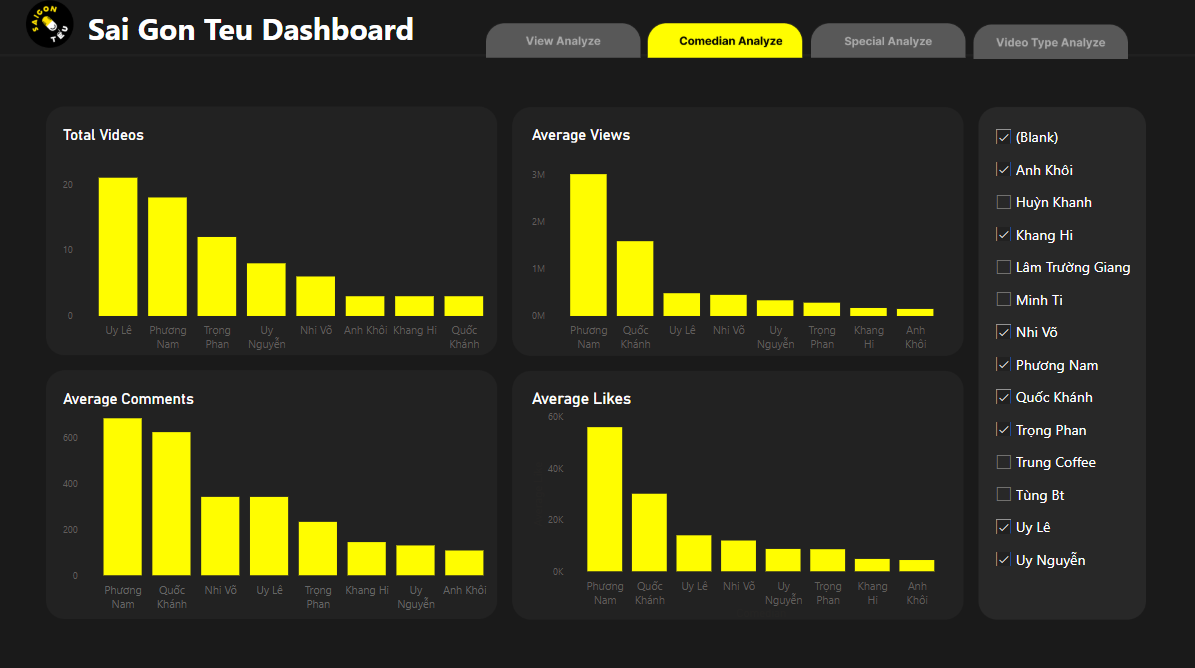

This screenshot's page, from the dashboard's own definition file:
{"tool":"powerbi","page":{"name":"Dashboard Comedian","canvas":[1920,1080],"ordinal":1},"visuals":[{"type":"columnChart","title":"Average Views","fields":{"Category":["Stand-up Comedy Videos.Comedian"],"Y":["Stand-up Comedy Videos.View"]},"box":[852.9,205.7,684.3,368.6],"z":0},{"type":"columnChart","title":"Average Comments","fields":{"Category":["Stand-up Comedy Videos.Comedian"],"Y":["Stand-up Comedy Videos.Comment"]},"box":[101.4,627.1,715.7,361.4],"z":1000},{"type":"columnChart","title":"Total Videos","fields":{"Category":["Stand-up Comedy Videos.Comedian"],"Y":["Stand-up Comedy Videos.Title"]},"box":[101.4,205.7,715.7,368.6],"z":2000},{"type":"slicer","fields":{"Values":["Stand-up Comedy Videos.Comedian"]},"box":[1587.1,192.9,285.7,822.9],"z":3000},{"type":"columnChart","title":"Average Likes","fields":{"Category":["Stand-up Comedy Videos.Comedian"],"Y":["Stand-up Comedy Videos.Like"]},"box":[852.9,627.1,684.3,372.9],"z":4000},{"type":"textbox","box":[141.4,11.4,551.4,85.7],"z":5000},{"type":"actionButton","box":[783.8,42.5,247.5,55],"z":6000},{"type":"actionButton","box":[1042,42,248,55],"z":7000},{"type":"actionButton","box":[1304.4,42.5,247.5,55],"z":8000},{"type":"actionButton","box":[1564.7,43.1,247.5,55],"z":9000}]}

Visuals, with their boxes in screenshot pixels (x1, y1, x2, y2), scaled from the page's 1920x1080 canvas onto the 1195x668 screenshot:
"Average Views" columnChart: (531, 127, 957, 355)
"Average Comments" columnChart: (63, 388, 509, 611)
"Total Videos" columnChart: (63, 127, 509, 355)
slicer - Stand-up Comedy Videos.Comedian: (988, 119, 1166, 628)
"Average Likes" columnChart: (531, 388, 957, 619)
textbox: (88, 7, 431, 60)
actionButton: (488, 26, 642, 60)
actionButton: (649, 26, 803, 60)
actionButton: (812, 26, 966, 60)
actionButton: (974, 27, 1128, 61)
